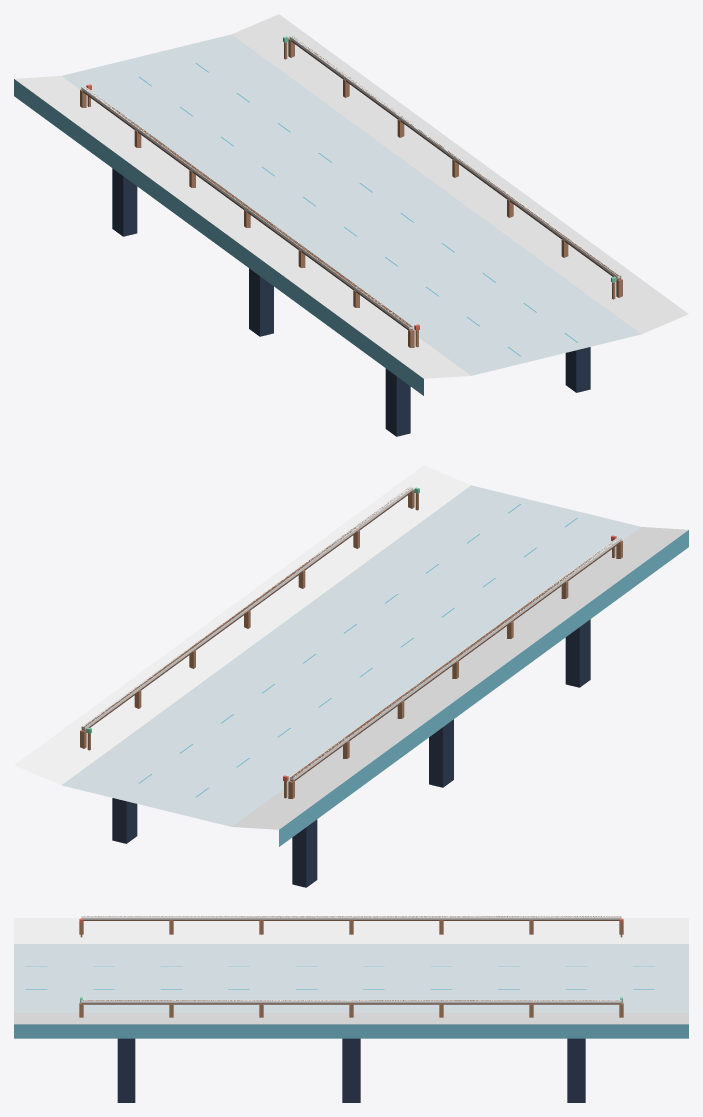
File: bridge.glb
The picture shows the model from 3 angles, top to bottom: view 1: azimuth 30°, elevation 25°; view 2: azimuth 150°, elevation 25°; view 3: azimuth 270°, elevation 25°; orthographic projection. The views are drawn at different scales.
Visible parts, largest first — view 1: Tile_bridge; view 2: Tile_bridge; view 3: Tile_bridge.
Boxes of the visible parts, x1,y1,x2,y2 form: Tile_bridge: (14, 14, 688, 436); Tile_bridge: (14, 465, 688, 887); Tile_bridge: (14, 916, 688, 1102).
Size of the model in its own units: 11.2 by 5.16 by 30.
